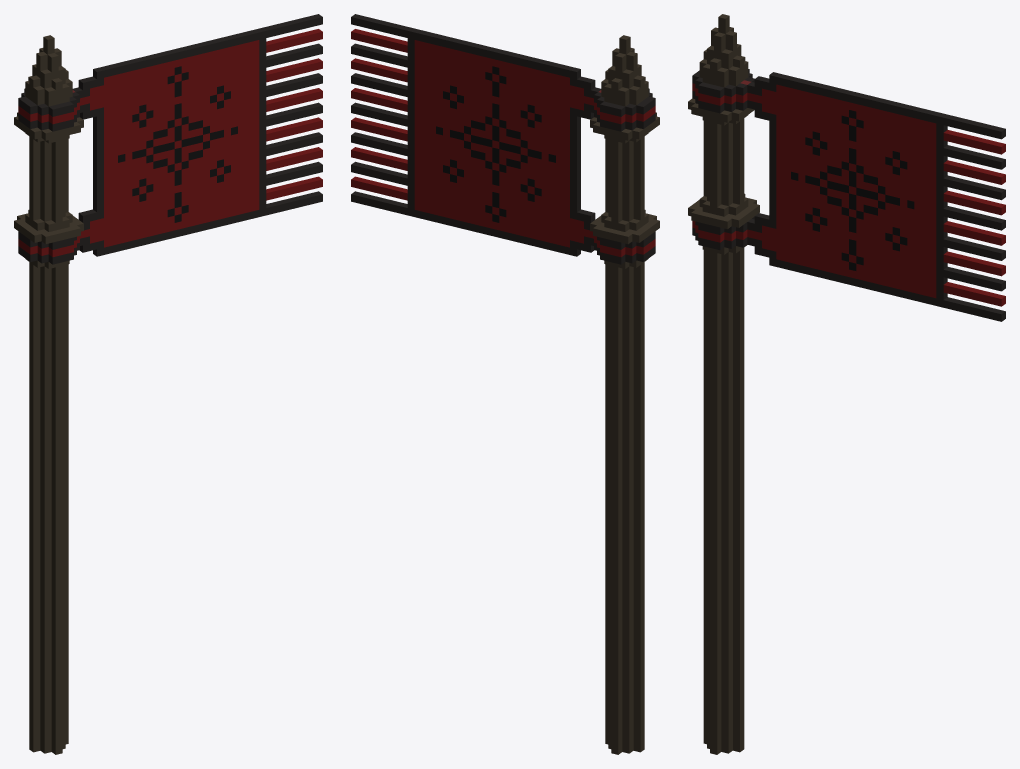
Rendered from Drapeaux0.fbx.
3 renders of one model, left to right at view 1: azimuth 30°, elevation 25°; view 2: azimuth 150°, elevation 25°; view 3: azimuth 330°, elevation 25°, orthographic. The views are drawn at different scales.
Visible parts, largest first — view 1: Drapeaux_00:Mesh; view 2: Drapeaux_00:Mesh; view 3: Drapeaux_00:Mesh.
Boxes of the visible parts, box(x1,y1,x2,y2) form: Drapeaux_00:Mesh: box(14, 14, 322, 754); Drapeaux_00:Mesh: box(351, 14, 659, 754); Drapeaux_00:Mesh: box(688, 14, 1005, 754).
Bounding box in the file's own units: 42 × 96 × 7.
